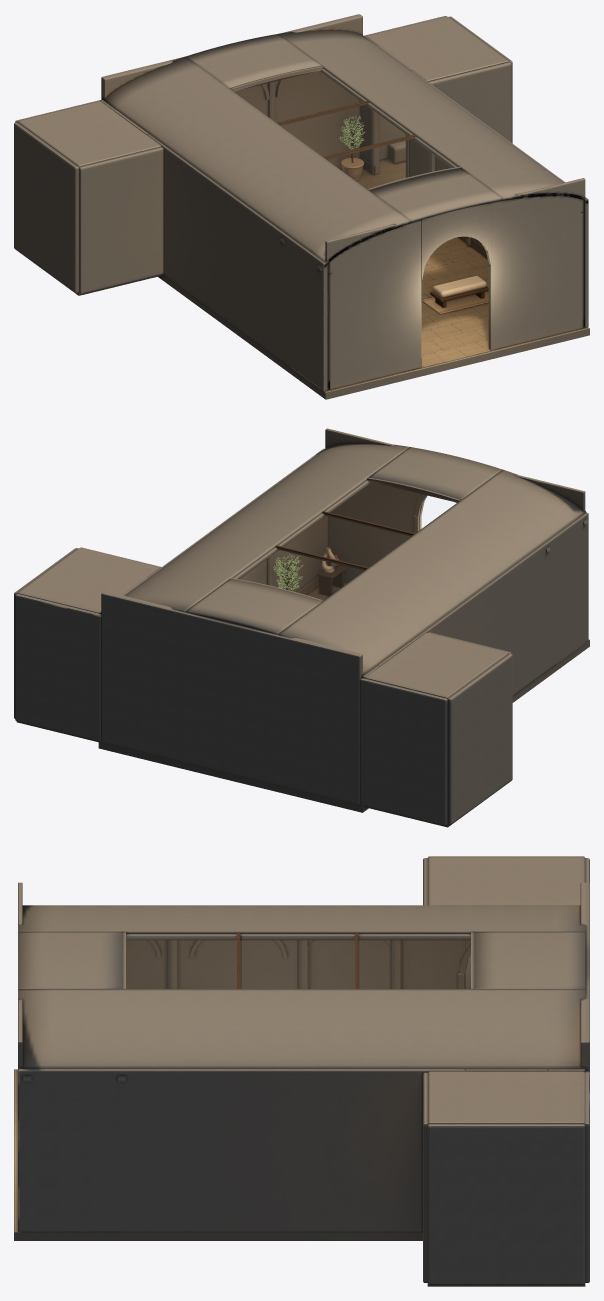
The model's file is hall-baked.glb.
The picture shows the model from 3 angles, top to bottom: view 1: azimuth 30°, elevation 25°; view 2: azimuth 150°, elevation 25°; view 3: azimuth 270°, elevation 25°; orthographic projection. The views are drawn at different scales.
Visible parts, largest first — view 1: BAKED hall shell, BAKED hall furniture; view 2: BAKED hall shell, BAKED hall furniture; view 3: BAKED hall shell.
Boxes of the visible parts, x1,y1,x2,y2 form: BAKED hall shell: (14, 14, 589, 399); BAKED hall furniture: (241, 71, 488, 314); BAKED hall shell: (14, 428, 589, 827); BAKED hall furniture: (275, 482, 449, 596); BAKED hall shell: (14, 856, 589, 1286).
Size of the model in its own units: 20.3 by 7.05 by 18.28.
Materials: 6 (2 with a texture image).
